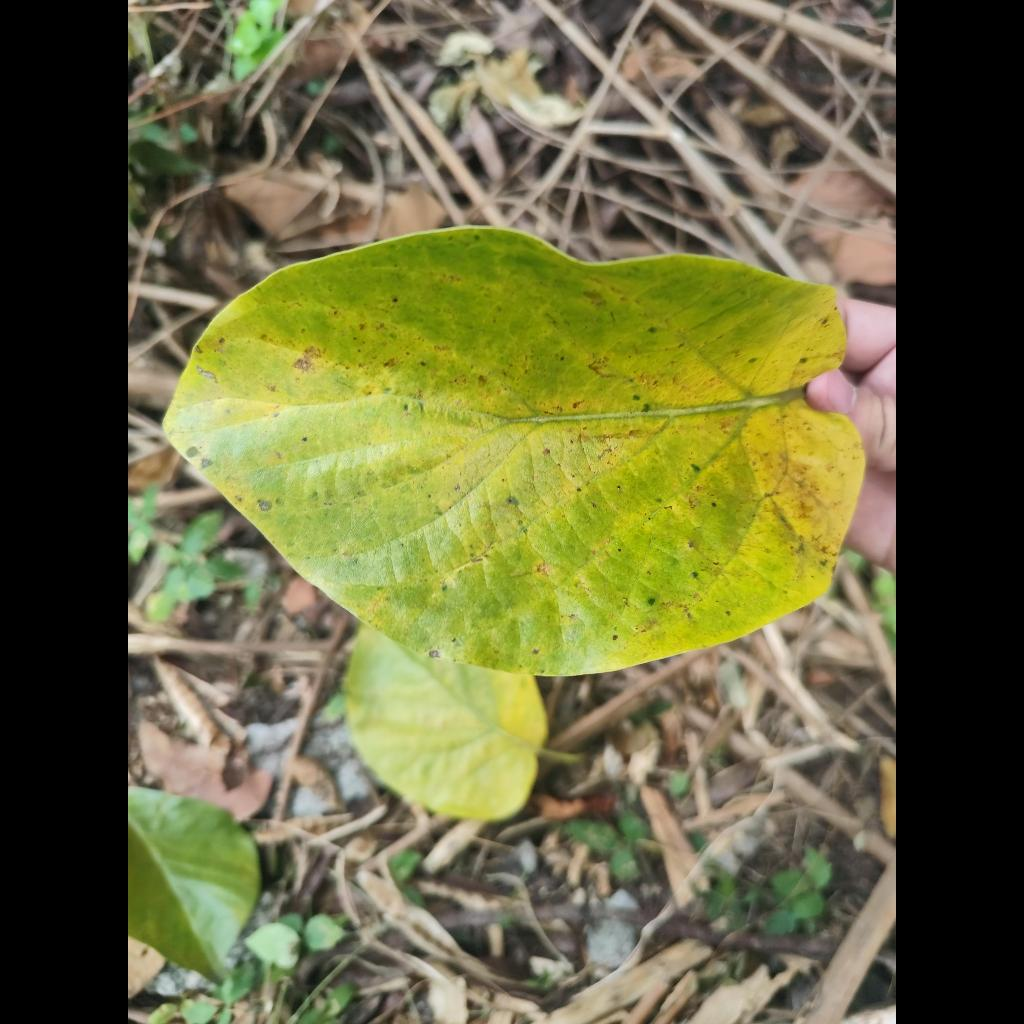deficiencia_nutricional: (165, 227, 863, 675)
